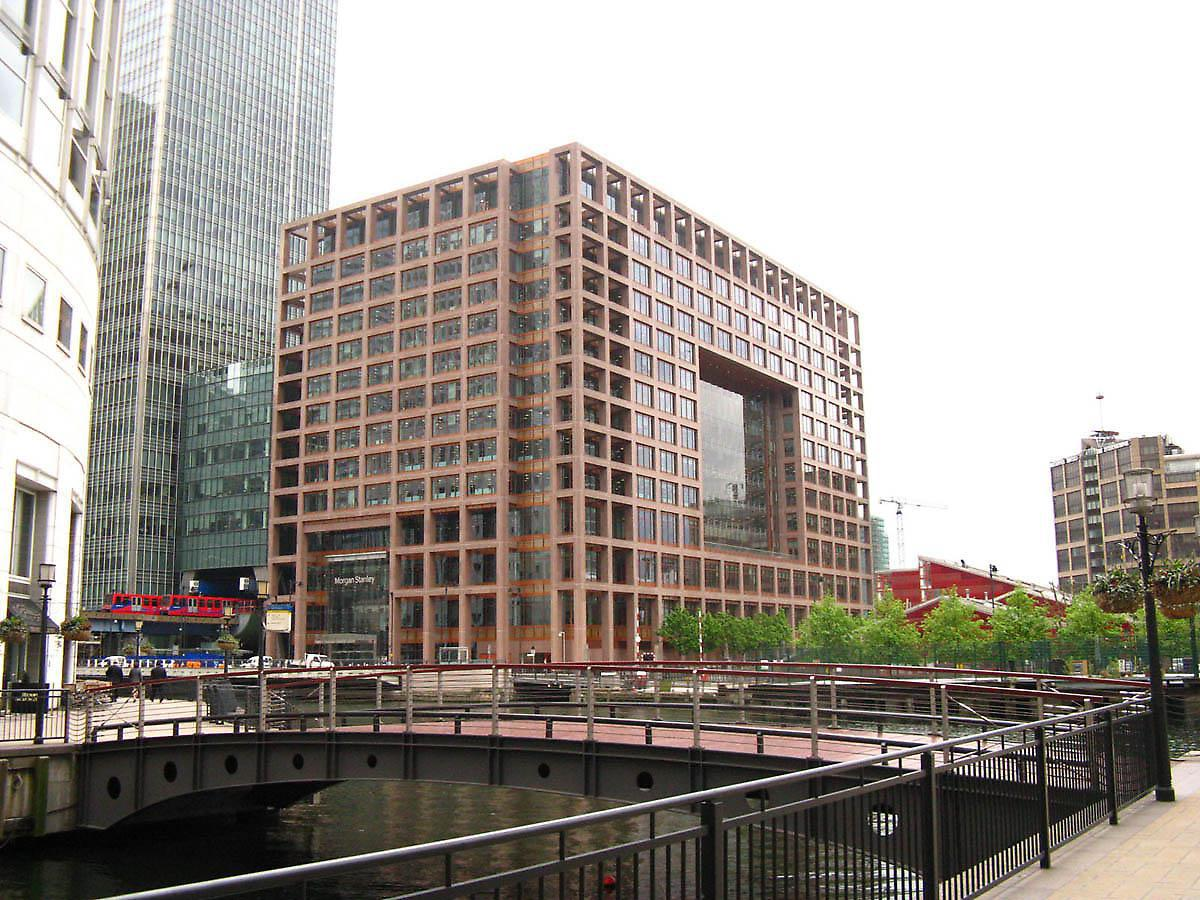affected: (274, 160, 890, 667)
